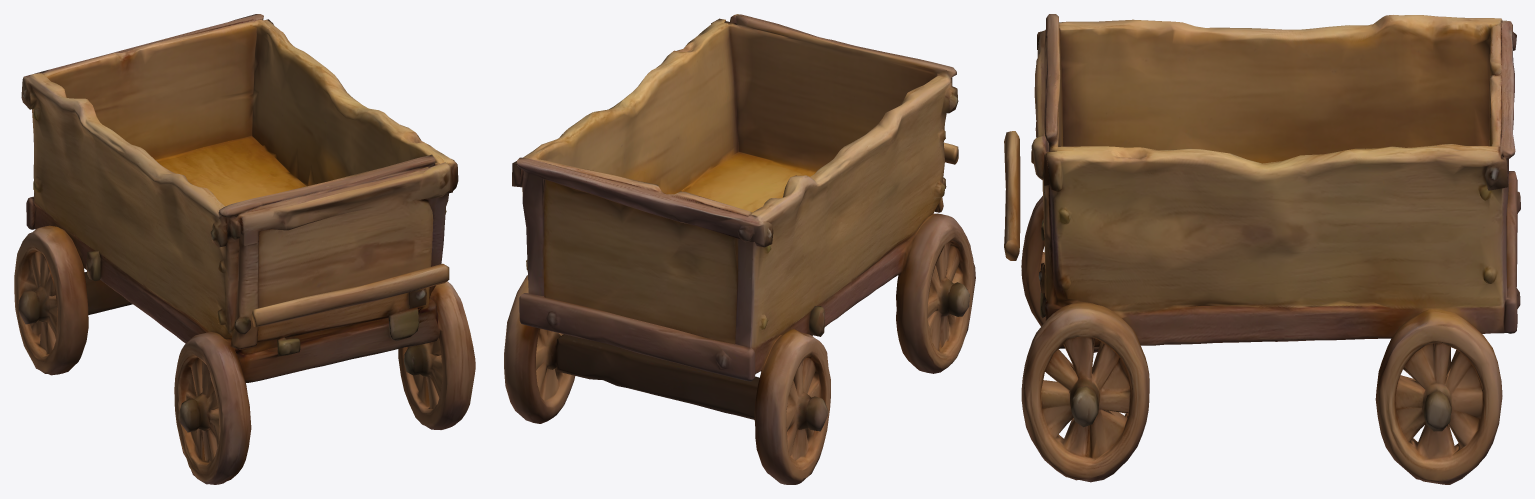
File: cargo_cart.glb
3 views of the same model, side by side, from view 1: azimuth 30°, elevation 25°; view 2: azimuth 150°, elevation 25°; view 3: azimuth 270°, elevation 25° (orthographic). The views are drawn at different scales.
Parts seen in each view (by area): view 1: tripo_node_581d5601-0b07-4ba2-956d-26bbfa6dd449; view 2: tripo_node_581d5601-0b07-4ba2-956d-26bbfa6dd449; view 3: tripo_node_581d5601-0b07-4ba2-956d-26bbfa6dd449.
Part boxes in pixels (x1,y1,x2,y2): tripo_node_581d5601-0b07-4ba2-956d-26bbfa6dd449: [14, 14, 475, 484]; tripo_node_581d5601-0b07-4ba2-956d-26bbfa6dd449: [504, 14, 975, 484]; tripo_node_581d5601-0b07-4ba2-956d-26bbfa6dd449: [1004, 14, 1520, 484].
Size of the model in its own units: 0.26 by 0.23 by 0.32.
Materials: 1 (1 with a texture image).
